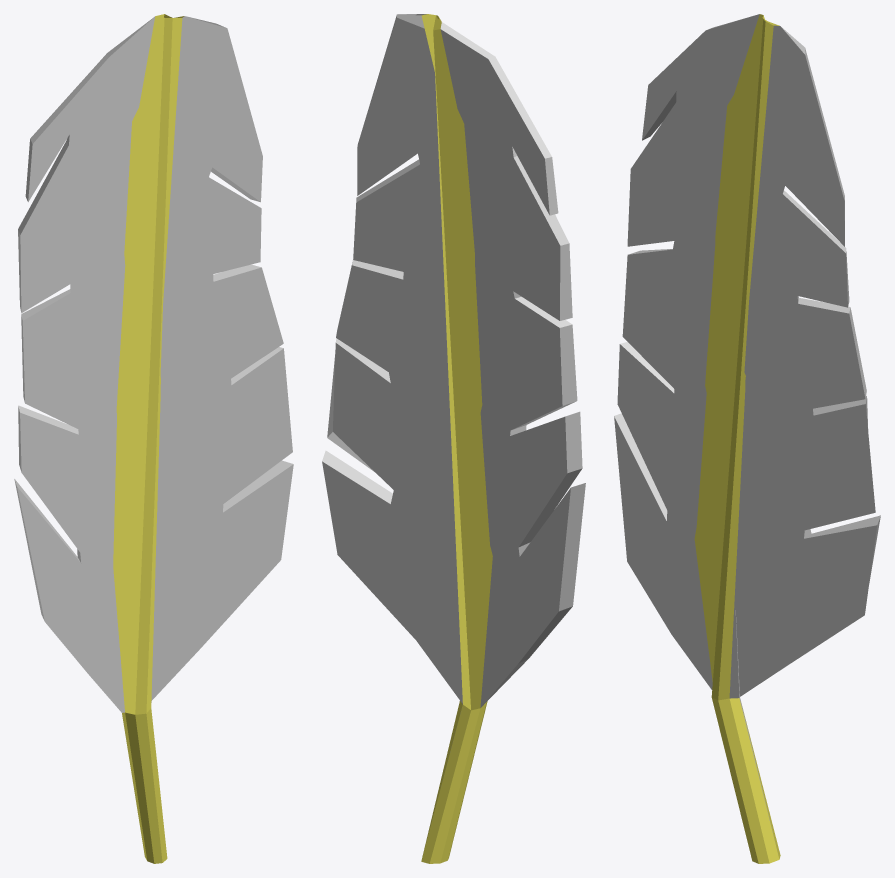
Rendered from feather.glb.
The picture shows the model from 3 angles, left to right: view 1: azimuth 30°, elevation 25°; view 2: azimuth 150°, elevation 25°; view 3: azimuth 330°, elevation 25°; orthographic projection.
Visible parts, largest first — view 1: Circle; view 2: Circle; view 3: Circle.
Part boxes in pixels (<box>): Circle: <box>14,14,293,863</box>; Circle: <box>322,14,585,863</box>; Circle: <box>614,14,880,863</box>.
Size of the model in its own units: 12.04 by 36.16 by 2.08.
